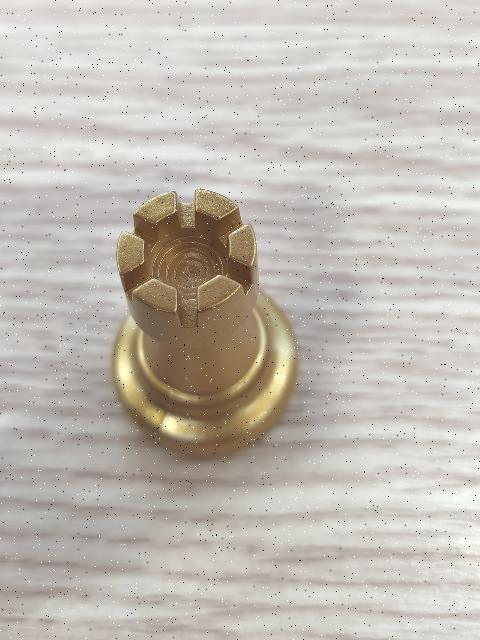black_rook: (112, 188, 292, 456)
